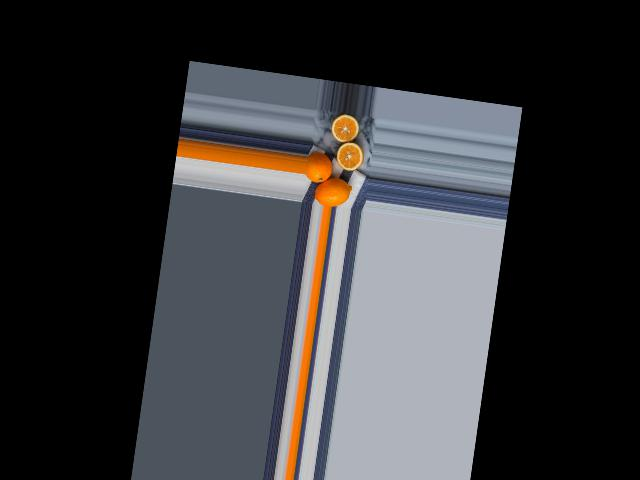lemon: (304, 154, 333, 184)
